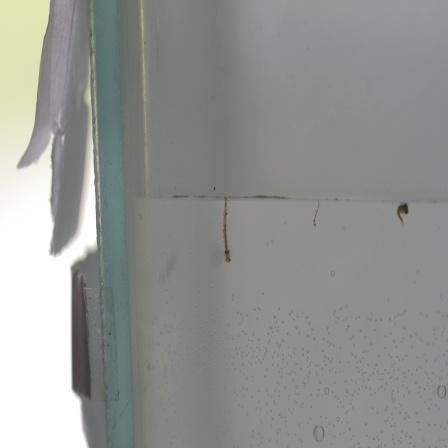Jentik-Nyamuk: (214, 192, 237, 268), (389, 197, 415, 229), (306, 196, 324, 232)
